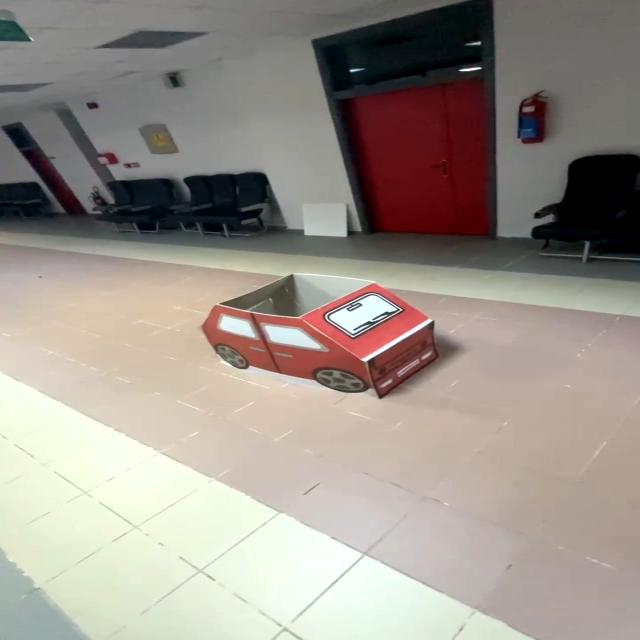red_car: (183, 260, 469, 431)
